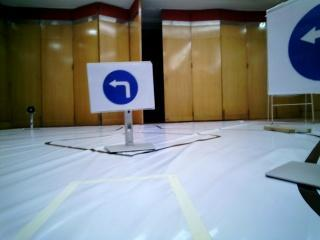left: (267, 5, 317, 94), (87, 65, 154, 111)
